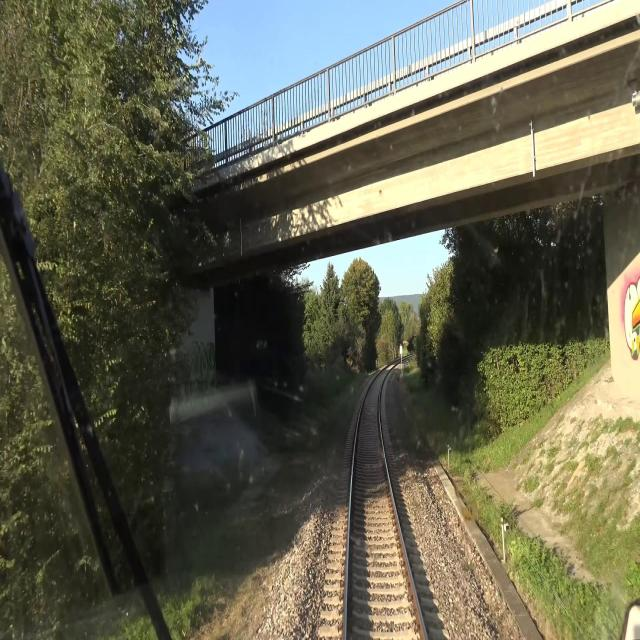rail-track: (349, 370, 424, 639)
